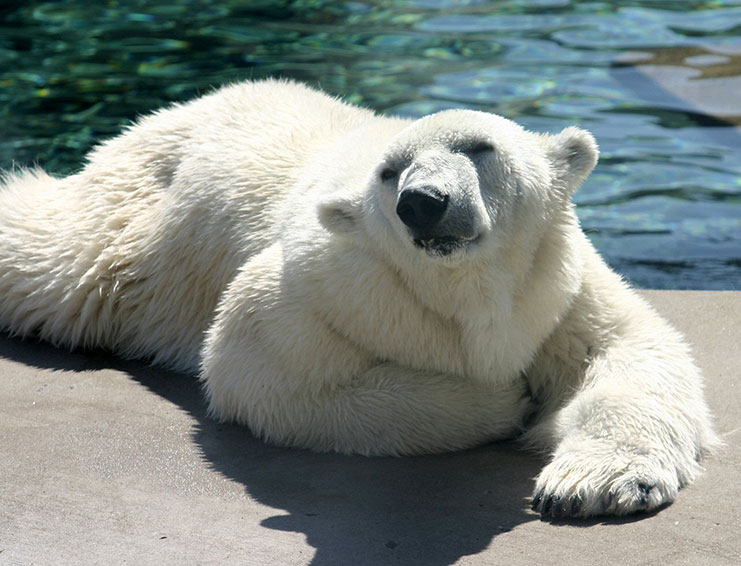Polar Bear: (19, 21, 719, 550)
